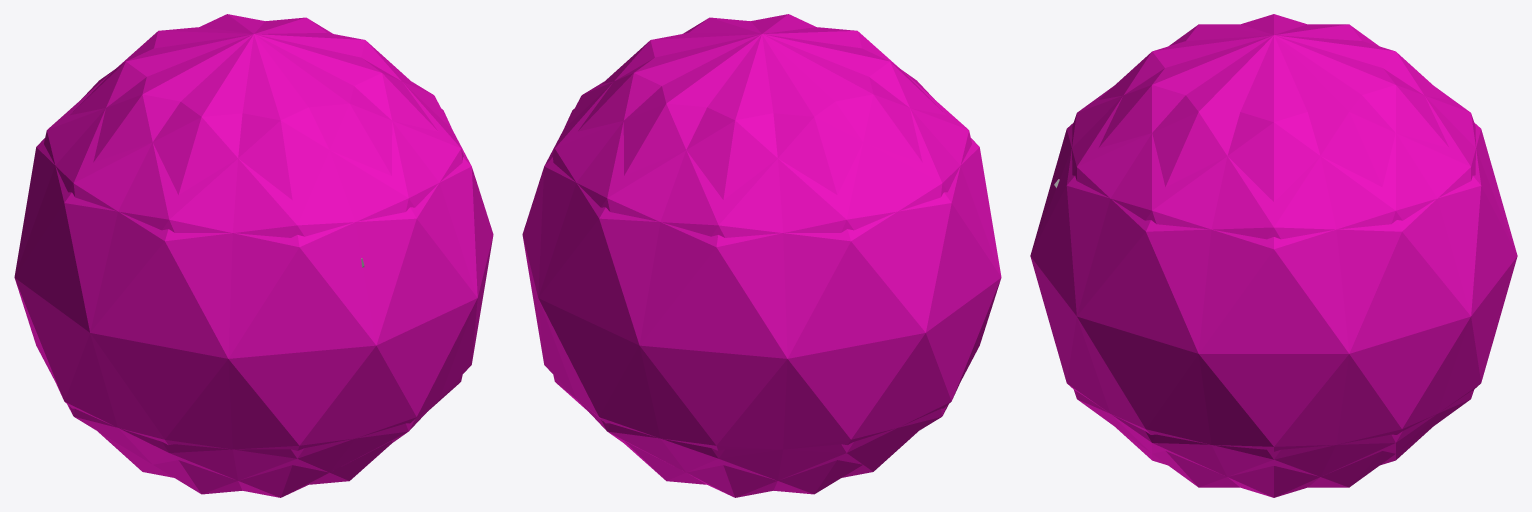
Rendered from starpower.fbx.
3 renders of one model, left to right at view 1: azimuth 30°, elevation 25°; view 2: azimuth 150°, elevation 25°; view 3: azimuth 270°, elevation 25°, orthographic.
Parts seen in each view (by area): view 1: Cube; view 2: Cube; view 3: Cube.
Boxes of the visible parts, x1,y1,x2,y2 form: Cube: (14,14,493,497); Cube: (522,14,1001,497); Cube: (1030,14,1517,497).
Size of the model in its own units: 742 by 781 by 781.
